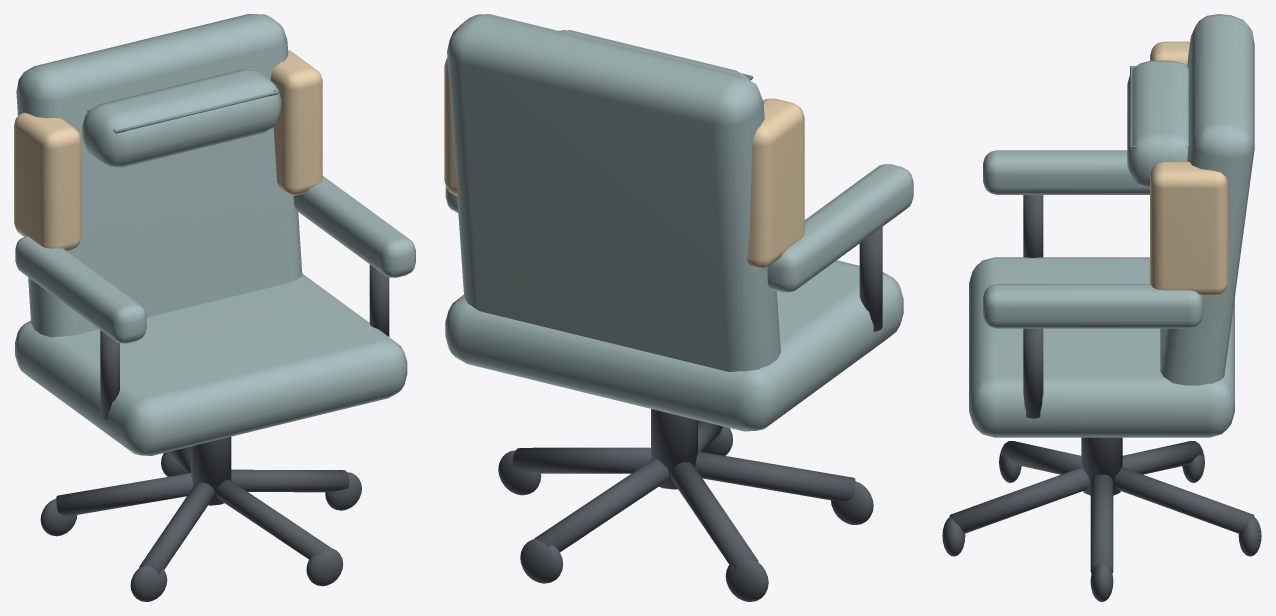
The model's file is atelier-gaming-chair.glb.
The picture shows the model from 3 angles, left to right: view 1: azimuth 30°, elevation 25°; view 2: azimuth 150°, elevation 25°; view 3: azimuth 270°, elevation 25°; orthographic projection. The views are drawn at different scales.
Parts seen in each view (by area): view 1: fabric.014, metal.002, accent.007, seams.014; view 2: fabric.014, metal.002, accent.007; view 3: fabric.014, metal.002, accent.007.
Part boxes in pixels (x1,y1,x2,y2): fabric.014: (15,14,415,455); metal.002: (40,264,389,601); accent.007: (14,50,322,251); seams.014: (87,89,278,133); fabric.014: (445,14,913,431); metal.002: (498,227,882,601); accent.007: (444,58,804,268); fabric.014: (969,14,1254,437); metal.002: (942,195,1261,601); accent.007: (1150,41,1227,296).
Bounding box in the file's own units: 0.7762 × 1.12 × 0.6967.
